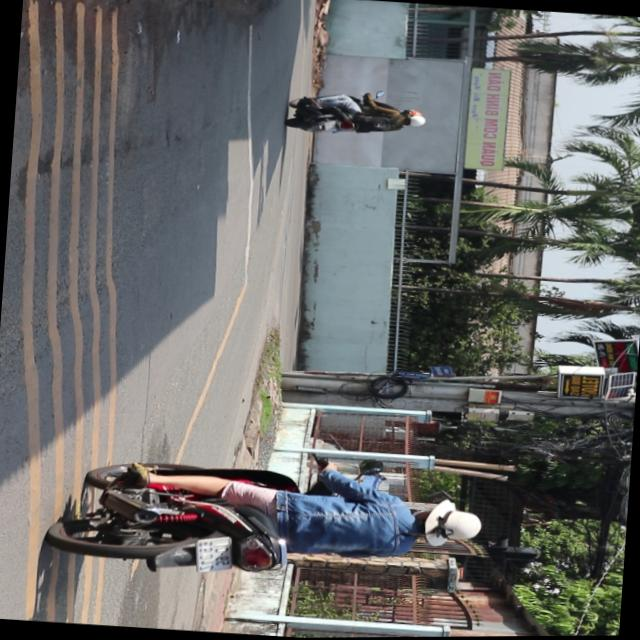licenseplate: (52, 446, 490, 599)
motorcyclist: (410, 500, 484, 553)
nohelmet: (196, 538, 232, 574)
